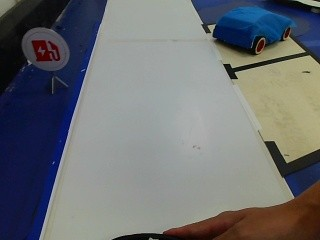battery: (22, 28, 67, 70)
car: (214, 6, 291, 58)
